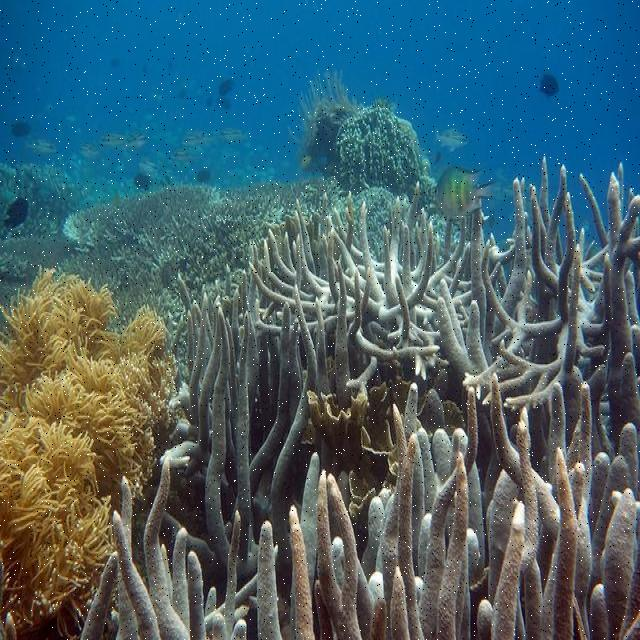fish: (429, 166, 501, 222)
reefs: (15, 97, 433, 338), (14, 270, 176, 636)
